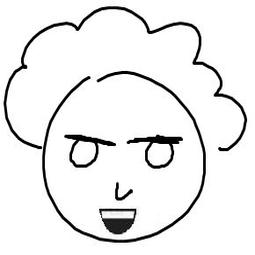empty_eye: (143, 125, 182, 173), (59, 131, 103, 172)
nose: (113, 181, 136, 203)
open_mouth: (92, 203, 147, 237)
